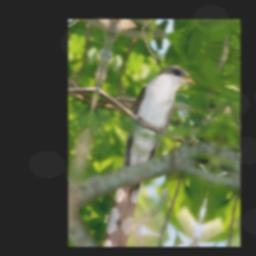Cuckoo: (105, 54, 204, 237)
